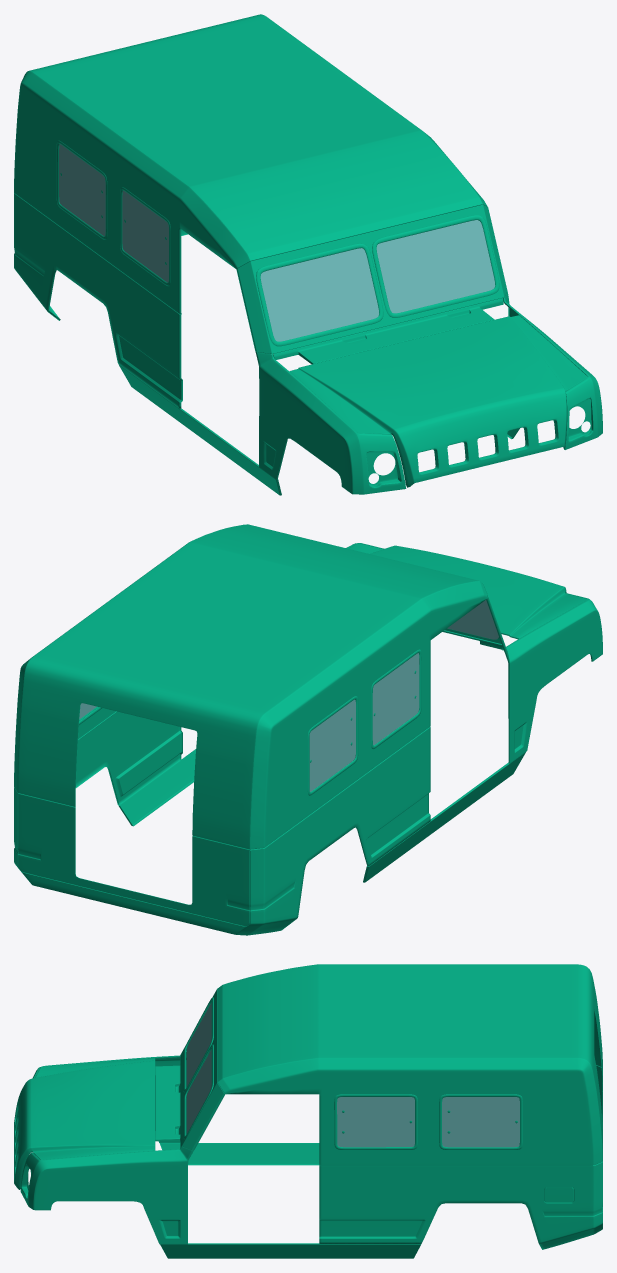
File: FHXY_02BX_A4_WaiKe_MD_exp.fbx
3 views of the same model, one above another, from view 1: azimuth 30°, elevation 25°; view 2: azimuth 150°, elevation 25°; view 3: azimuth 270°, elevation 25° (orthographic). The views are drawn at different scales.
Visible parts, largest first — view 1: FHXY_02BX_A4_WaiKe_MD_L, FHXY_02BX_A4_WaiKe_MD_L_Glass, mirrored_x_2, mirrored_x_1, mirrored_x_4; view 2: FHXY_02BX_A4_WaiKe_MD_L, mirrored_x_2, mirrored_x_1, mirrored_x_4, FHXY_02BX_A4_WaiKe_MD_L_Glass; view 3: FHXY_02BX_A4_WaiKe_MD_L, FHXY_02BX_A4_WaiKe_MD_L_Glass, mirrored_x_1.
Boxes of the visible parts, x1,y1,x2,y2 form: FHXY_02BX_A4_WaiKe_MD_L: (14,14,602,494); FHXY_02BX_A4_WaiKe_MD_L_Glass: (260,220,495,341); mirrored_x_2: (59,144,168,282); mirrored_x_1: (118,364,281,495); mirrored_x_4: (56,140,170,286); FHXY_02BX_A4_WaiKe_MD_L: (14,524,602,935); mirrored_x_2: (309,653,419,791); mirrored_x_1: (363,752,525,882); mirrored_x_4: (307,649,421,795); FHXY_02BX_A4_WaiKe_MD_L_Glass: (79,600,498,719); FHXY_02BX_A4_WaiKe_MD_L: (14,964,602,1258); FHXY_02BX_A4_WaiKe_MD_L_Glass: (186,1003,519,1147); mirrored_x_1: (160,1143,319,1165).
Bounding box in the file's own units: 183 × 168 × 448.
